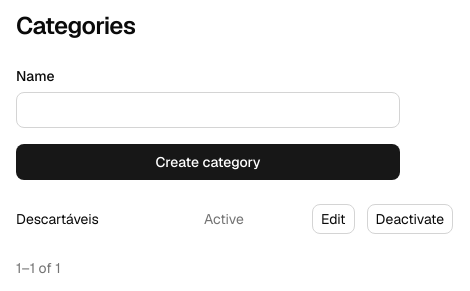
Scenario: categories panel › switches a category off from its row and says so
Check: the text "Descartáveis" is shown, box [16,210,99,228]
Click the button with aria-label "Deactivate Descartáveis": (410, 219) [367,204,453,234]
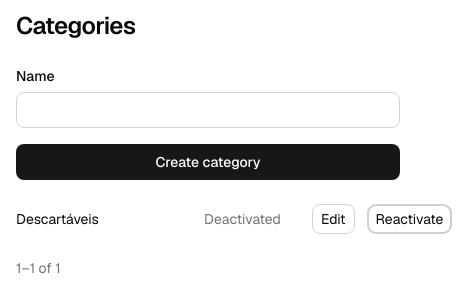
Check: the button with aria-label "Reactivate Descartáveis" is shown, box [367,204,452,234]
